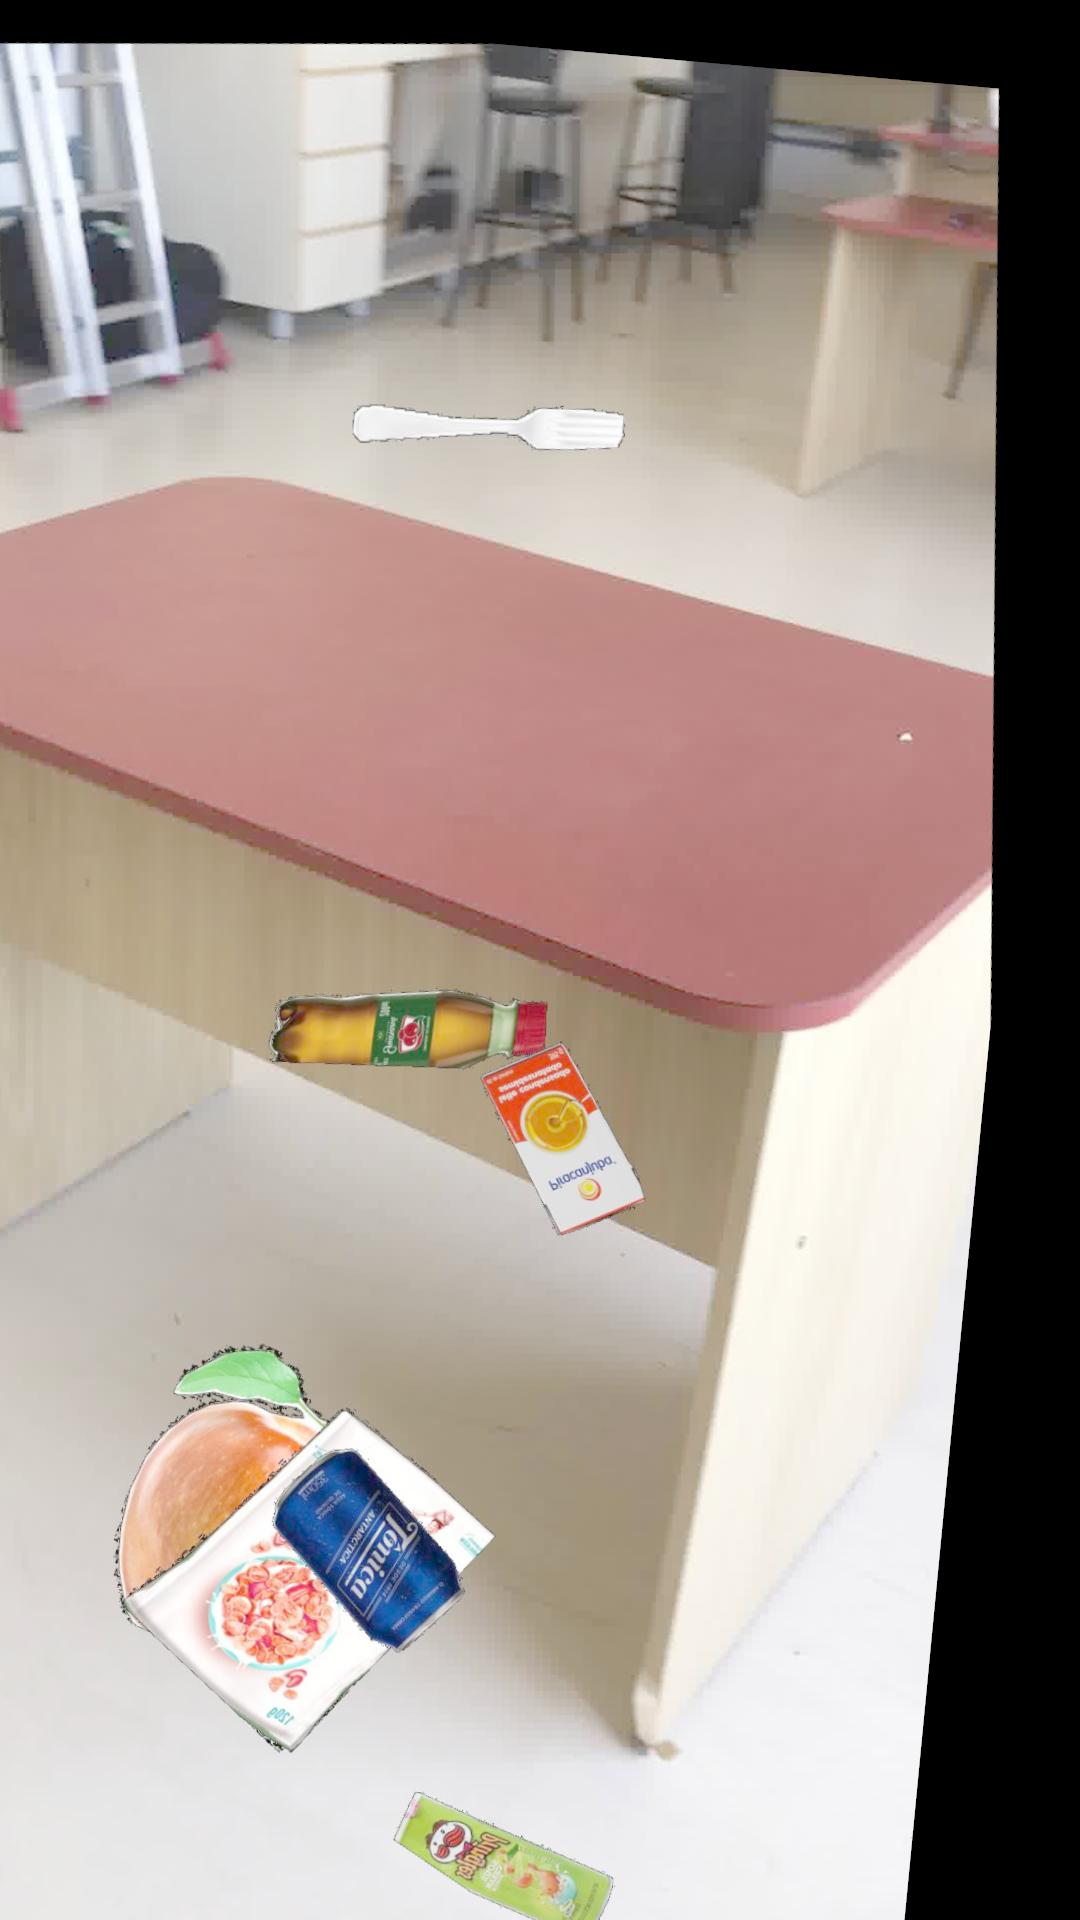apple: (146, 1335, 359, 1623)
corn flakes: (154, 1396, 527, 1742)
fork: (361, 394, 633, 438)
guarana: (290, 978, 568, 1058)
pringles: (431, 1779, 651, 1920)
tonic: (303, 1437, 497, 1640)
